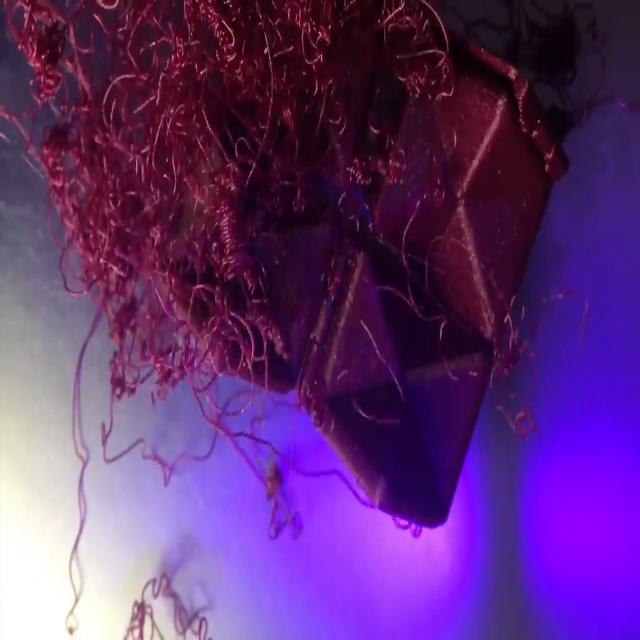spaghetti: (0, 0, 458, 429), (484, 266, 598, 448), (118, 560, 252, 640)
